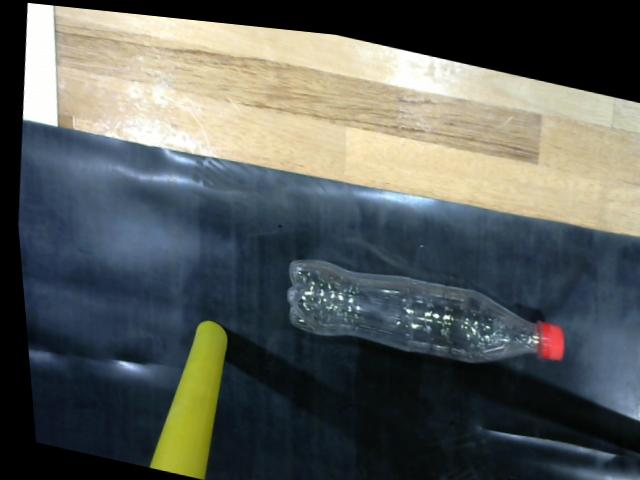bottle: (278, 250, 563, 363)
